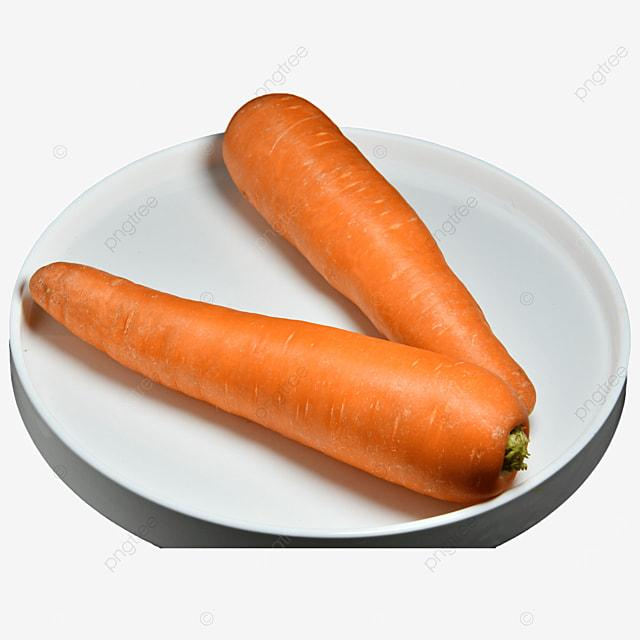Fresh_Carrot: (62, 269, 517, 490)
carrot: (211, 86, 572, 469)
